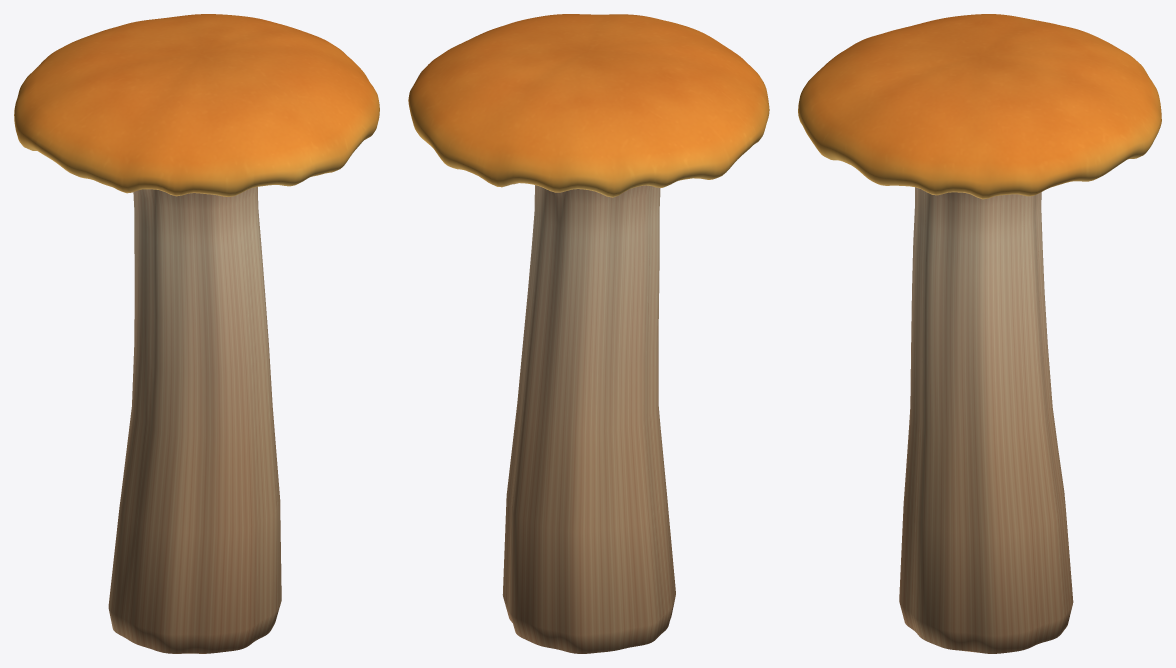
File: SM_Valley_AmberStep.fbx
3 views of the same model, side by side, from view 1: azimuth 30°, elevation 25°; view 2: azimuth 150°, elevation 25°; view 3: azimuth 270°, elevation 25° (orthographic).
Parts seen in each view (by area): view 1: SM_Valley_AmberStep; view 2: SM_Valley_AmberStep; view 3: SM_Valley_AmberStep.
Part boxes in pixels (x1,y1,x2,y2): SM_Valley_AmberStep: [14, 14, 379, 653]; SM_Valley_AmberStep: [408, 14, 769, 653]; SM_Valley_AmberStep: [798, 14, 1161, 653].
Bounding box in the file's own units: 1.29 × 1.27 × 2.2.
Materials: 2 (2 with a texture image).
